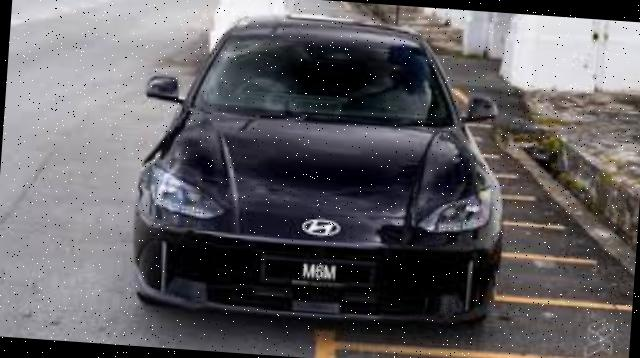License_Plate: (250, 250, 385, 296)
